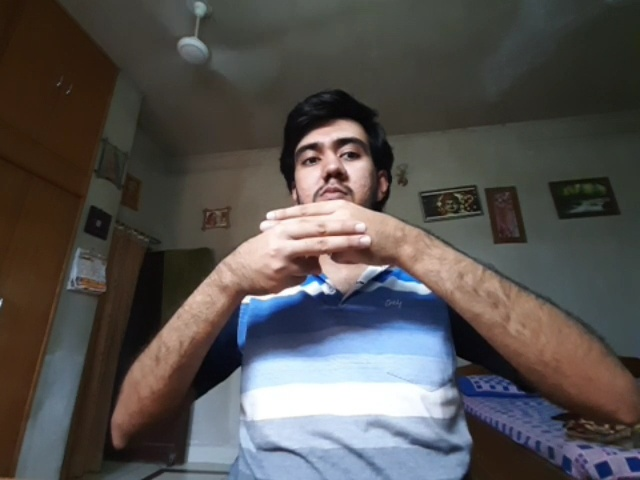Name: (238, 200, 396, 296)
